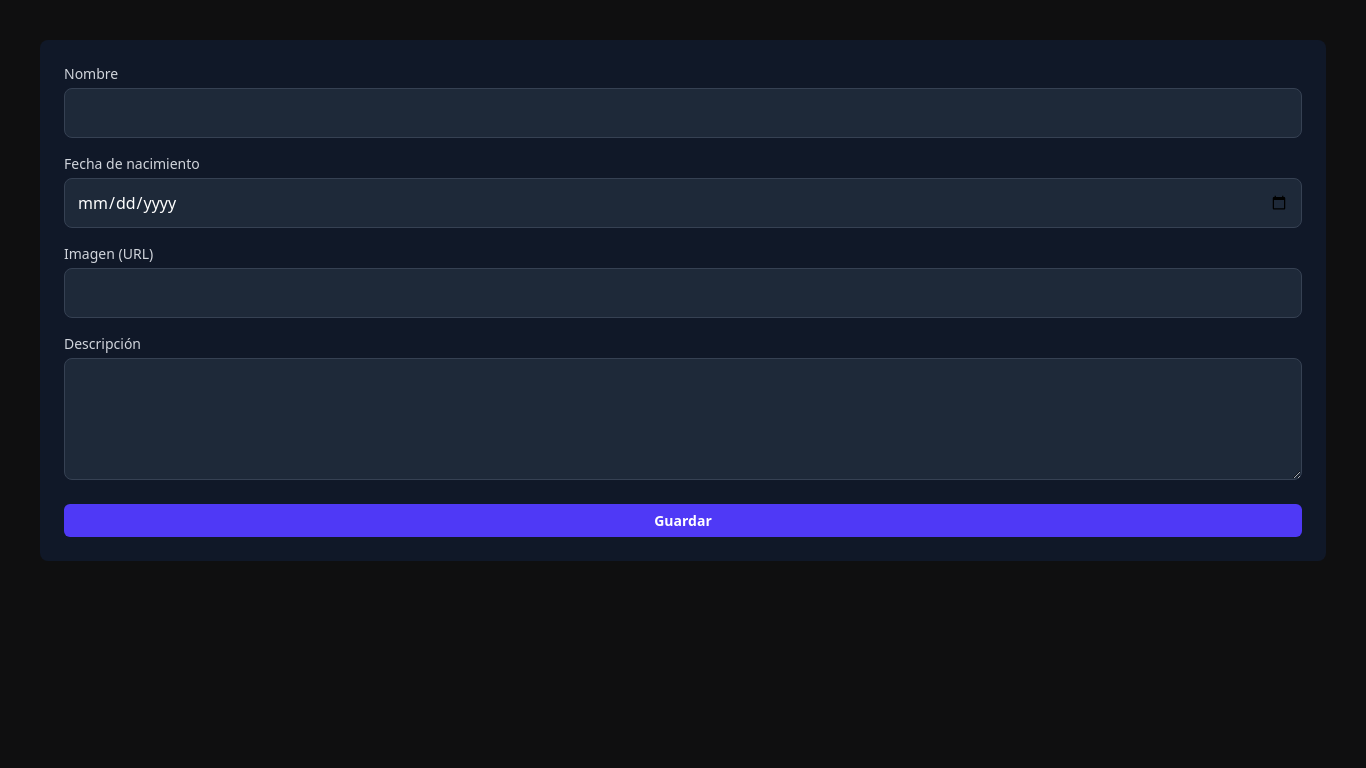
Scenario: AuthorForm - Validación Autores › Debe mostrar error cuando el nombre está vacío
The width and height of the screenshot is (1366, 768).
What coordinates should you click on to do the following:
click the button "Guardar"
I would click on:
 (683, 520)
Its box is [64, 504, 1302, 537].
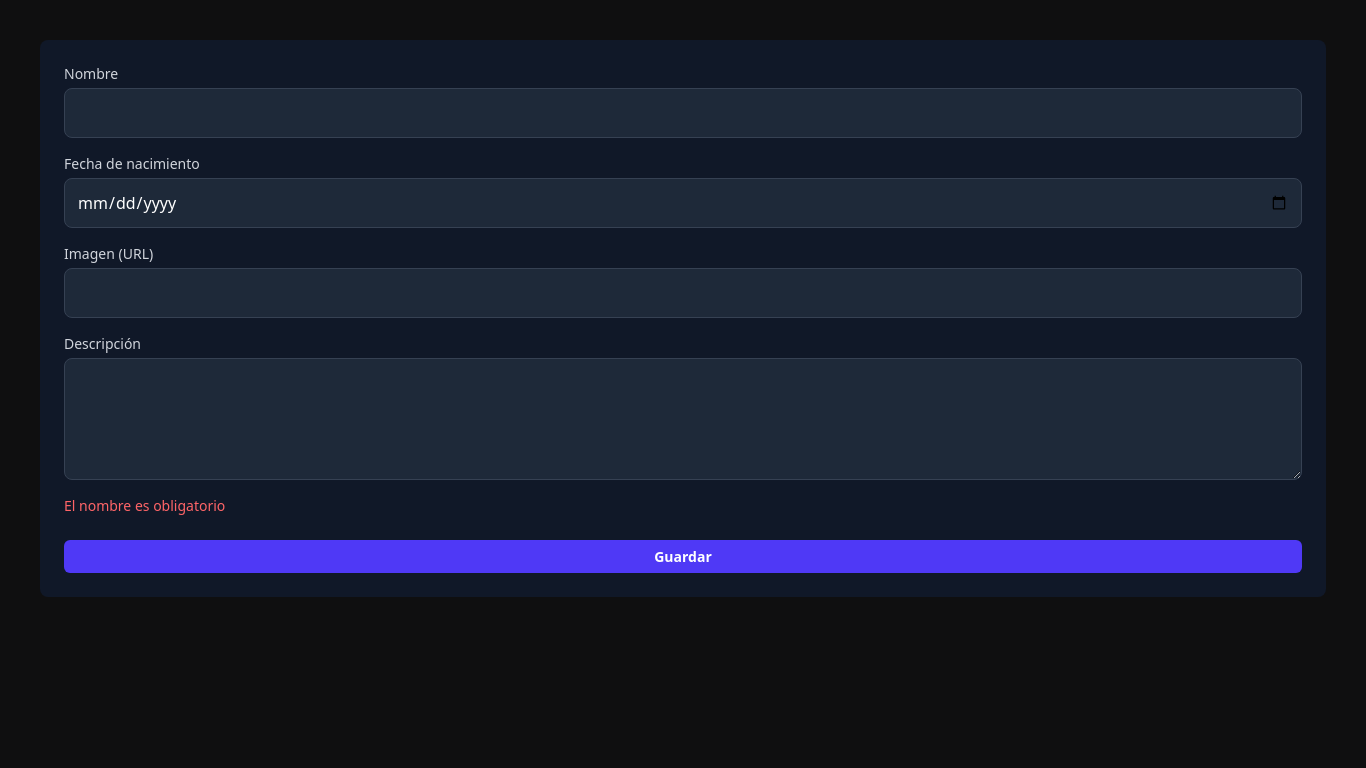
Result: the message reads "El nombre es obligatorio" at [64, 496, 225, 515]
